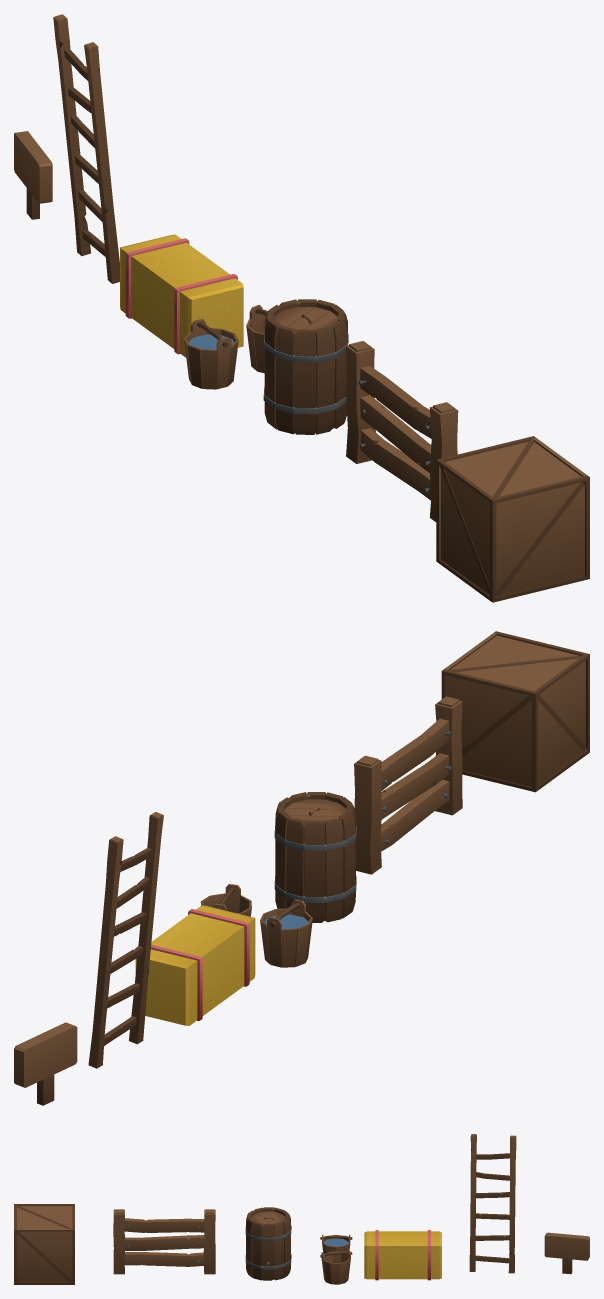
Rendered from pack.glb.
The picture shows the model from 3 angles, top to bottom: view 1: azimuth 30°, elevation 25°; view 2: azimuth 150°, elevation 25°; view 3: azimuth 270°, elevation 25°; orthographic projection. The views are drawn at different scales.
Visible parts, largest first — view 1: Box, Haystack, Barrel, Ladder, Plank, Fence, Bucket, Pointer, Box.001, Cylind, Bucket.001; view 2: Box, Haystack, Barrel, Ladder, Plank, Fence, Pointer, Bucket, Box.001, Cylind, Bucket.001; view 3: Box, Haystack, Plank, Ladder, Barrel, Fence, Pointer, Bucket.001, Box.001, Cylind, Bucket.
Boxes of the visible parts, left/top/right/bottom form: Box: left=436, top=436, right=589, bottom=602; Haystack: left=120, top=234, right=243, bottom=357; Barrel: left=264, top=299, right=347, bottom=434; Ladder: left=53, top=14, right=119, bottom=283; Plank: left=360, top=366, right=431, bottom=500; Fence: left=346, top=341, right=458, bottom=521; Bucket: left=184, top=318, right=238, bottom=389; Pointer: left=14, top=131, right=52, bottom=219; Box.001: left=439, top=439, right=585, bottom=597; Cylind: left=263, top=332, right=348, bottom=414; Bucket.001: left=246, top=305, right=267, bottom=373; Box: left=441, top=631, right=589, bottom=792; Haystack: left=135, top=905, right=255, bottom=1025; Barrel: left=275, top=792, right=355, bottom=922; Ladder: left=88, top=812, right=163, bottom=1068; Plank: left=380, top=718, right=449, bottom=851; Fence: left=354, top=696, right=462, bottom=874; Pointer: left=14, top=1022, right=77, bottom=1105; Bucket: left=260, top=899, right=312, bottom=967; Box.001: left=448, top=655, right=587, bottom=756; Cylind: left=274, top=825, right=356, bottom=902; Bucket.001: left=200, top=884, right=251, bottom=916; Box: left=14, top=1204, right=74, bottom=1284; Haystack: left=364, top=1230, right=441, bottom=1280; Plank: left=124, top=1218, right=204, bottom=1266; Ladder: left=469, top=1134, right=516, bottom=1273; Barrel: left=246, top=1207, right=290, bottom=1280; Fence: left=113, top=1209, right=215, bottom=1274; Pointer: left=544, top=1232, right=589, bottom=1274; Bucket.001: left=320, top=1249, right=352, bottom=1284; Box.001: left=17, top=1205, right=72, bottom=1282; Cylind: left=245, top=1225, right=291, bottom=1269; Bucket: left=320, top=1234, right=352, bottom=1253.
Bounding box in the file's own units: 0.1536 × 0.3251 × 1.29.
2 materials, 2 textured.
